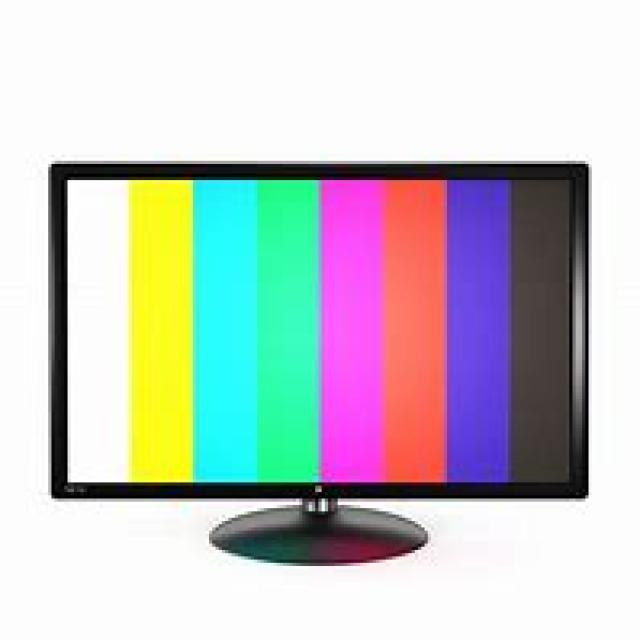tv: (45, 158, 589, 562)
